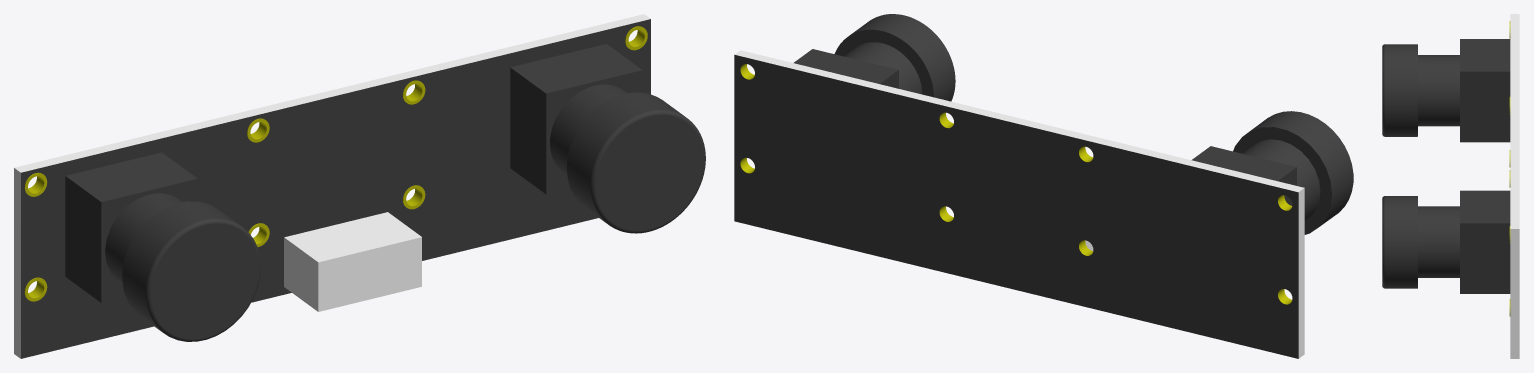
File: IMX219-83_Stereo_Camera.gltf
3 views of the same model, side by side, from view 1: azimuth 30°, elevation 25°; view 2: azimuth 150°, elevation 25°; view 3: azimuth 270°, elevation 25° (orthographic). The views are drawn at different scales.
Visible parts, largest first — view 1: IMX219-83 Stereo Camera; view 2: IMX219-83 Stereo Camera; view 3: IMX219-83 Stereo Camera.
Boxes of the visible parts, x1,y1,x2,y2 form: IMX219-83 Stereo Camera: [14, 14, 705, 358]; IMX219-83 Stereo Camera: [734, 14, 1353, 358]; IMX219-83 Stereo Camera: [1382, 14, 1519, 358].
Bounding box in the file's own units: 0.085 × 0.024 × 0.023.
